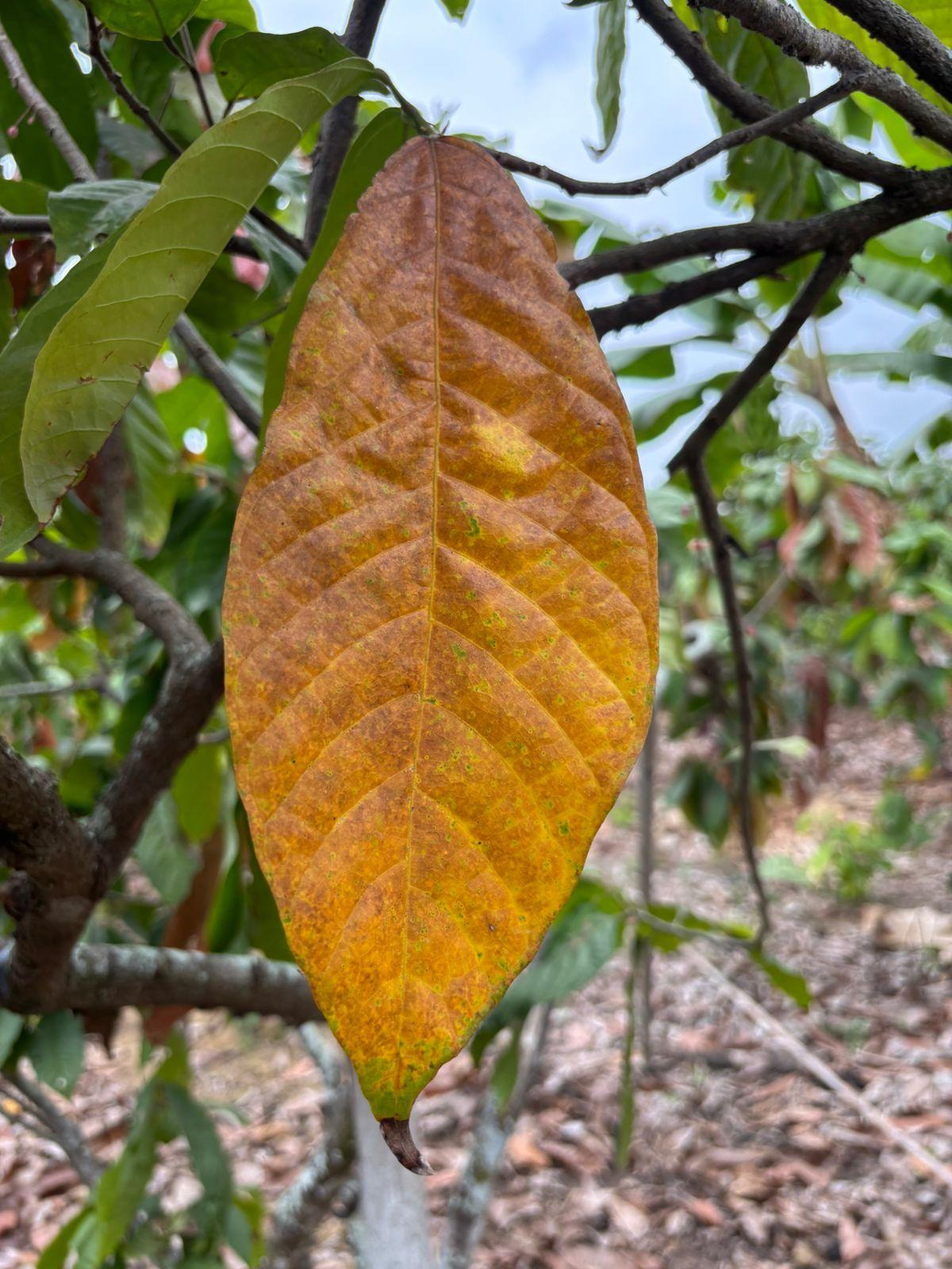deficienciia_fosforo: (223, 137, 658, 1165)
